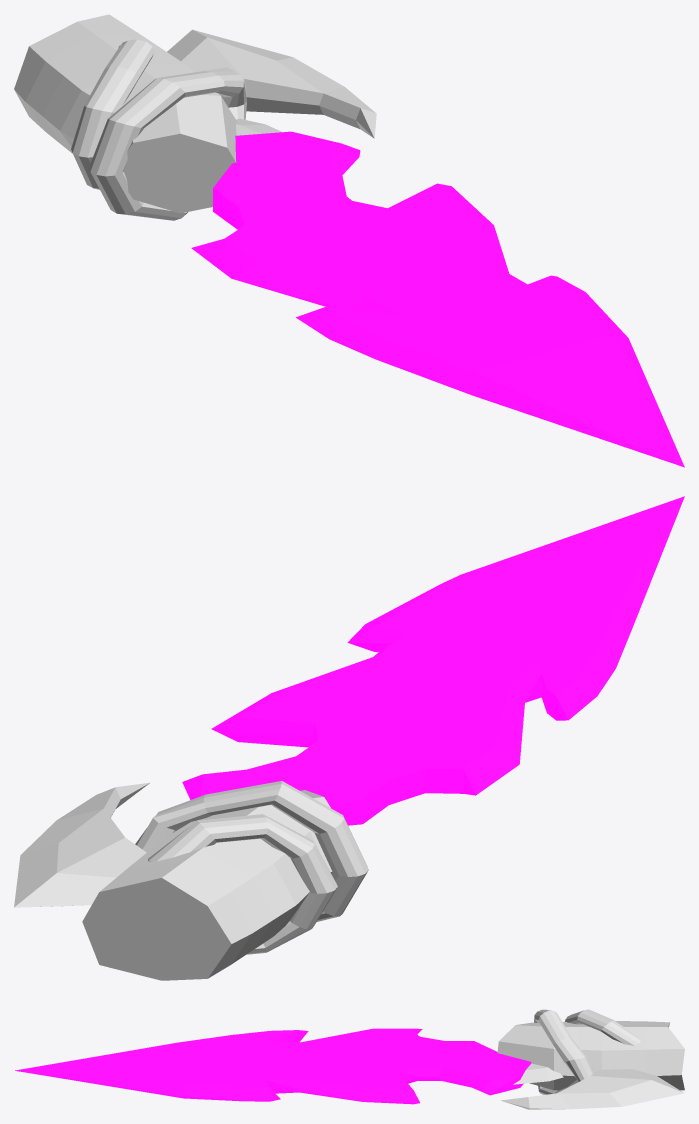
File: sword_needTexture.fbx
The picture shows the model from 3 angles, top to bottom: view 1: azimuth 30°, elevation 25°; view 2: azimuth 150°, elevation 25°; view 3: azimuth 270°, elevation 25°; orthographic projection. The views are drawn at different scales.
Visible parts, largest first — view 1: Blade; view 2: Blade; view 3: Blade.
Part boxes in pixels (x1=…): Blade: x1=14, y1=14, x2=684, y2=467; Blade: x1=14, y1=496, x2=684, y2=980; Blade: x1=15, y1=1009, x2=684, y2=1109.
Bounding box in the file's own units: 374 × 180 × 1317.
